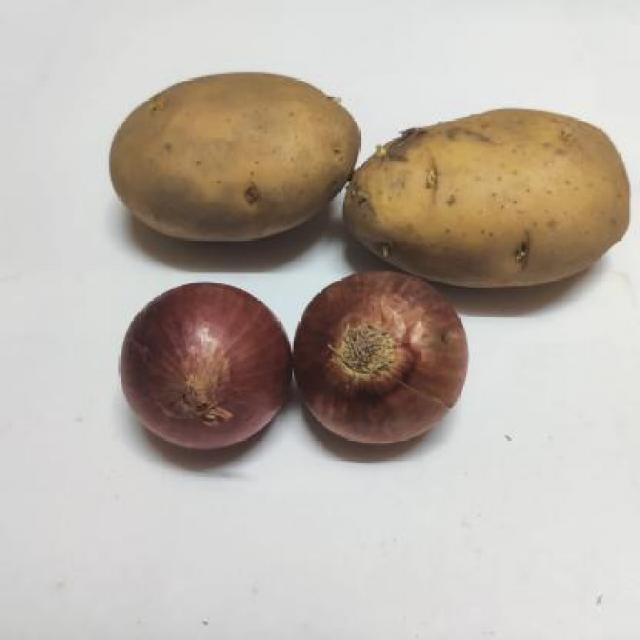Onion: (101, 261, 306, 477), (304, 275, 472, 454)
Potato: (67, 62, 360, 255), (355, 106, 640, 292)
